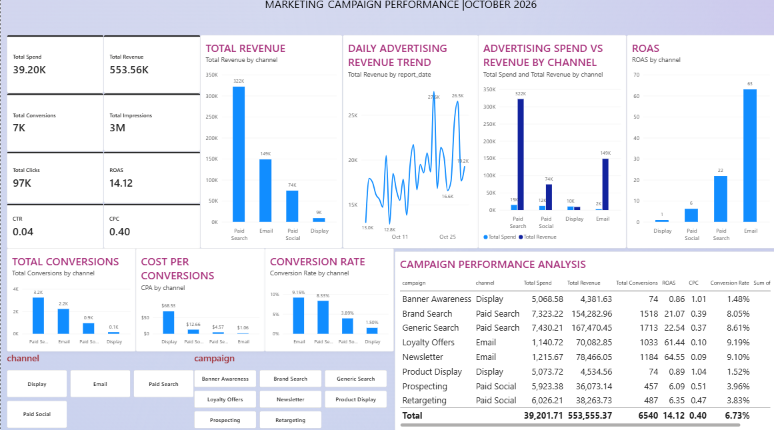

The page's visual inventory and layout, read from the dashboard file:
{"tool":"powerbi","page":{"name":"Page 1","canvas":[1920,1080],"ordinal":0},"visuals":[{"type":"cardVisual","fields":{"Data":["Sheet1.Total Spend"]},"box":[16,96,240,144],"z":0},{"type":"cardVisual","fields":{"Data":["Sheet1.Total Conversions"]},"box":[16,240,240,144],"z":1},{"type":"cardVisual","fields":{"Data":["Sheet1.Total Clicks"]},"box":[16,384,240,128],"z":2},{"type":"cardVisual","fields":{"Data":["Sheet1.CTR"]},"box":[16,512,240,112],"z":3},{"type":"cardVisual","fields":{"Data":["Sheet1.Total Revenue"]},"box":[256,96,240,144],"z":4},{"type":"cardVisual","fields":{"Data":["Sheet1.Total Impressions"]},"box":[256,240,240,144],"z":5},{"type":"cardVisual","fields":{"Data":["Sheet1.ROAS"]},"box":[256,384,240,128],"z":6},{"type":"cardVisual","fields":{"Data":["Sheet1.CPC"]},"box":[256,512,240,112],"z":7},{"type":"clusteredColumnChart","title":"TOTAL REVENUE","fields":{"Category":["Sheet1.channel"],"Y":["Sheet1.Total Revenue"]},"box":[496,96,352,528],"z":8},{"type":"lineChart","title":"DAILY ADVERTISING REVENUE TREND","fields":{"Category":["Sheet1.report_date"],"Y":["Sheet1.Total Revenue"]},"box":[848,96,336,528],"z":9},{"type":"clusteredColumnChart","title":"ADVERTISING SPEND VS REVENUE BY CHANNEL","fields":{"Category":["Sheet1.channel"],"Y":["Sheet1.Total Spend","Sheet1.Total Revenue"]},"box":[1184,96,368,528],"z":10},{"type":"clusteredColumnChart","title":"ROAS ","fields":{"Category":["Sheet1.channel"],"Y":["Sheet1.ROAS"]},"box":[1552,96,368,528],"z":11},{"type":"clusteredColumnChart","title":"TOTAL CONVERSIONS","fields":{"Category":["Sheet1.channel"],"Y":["Sheet1.Total Conversions"]},"box":[16,624,320,256],"z":12},{"type":"clusteredColumnChart","title":"COST PER CONVERSIONS","fields":{"Category":["Sheet1.channel"],"Y":["Sheet1.CPA"]},"box":[336,624,320,256],"z":13},{"type":"clusteredColumnChart","title":"CONVERSION RATE","fields":{"Category":["Sheet1.channel"],"Y":["Sheet1.Conversion Rate"]},"box":[656,624,320,256],"z":14},{"type":"tableEx","title":"CAMPAIGN PERFORMANCE ANALYSIS","fields":{"Values":["Sheet1.campaign","Sheet1.channel","Sheet1.Total Spend","Sheet1.Total Revenue","Sheet1.Total Conversions","Sheet1.ROAS","Sheet1.CPC","Sheet1.Conversion Rate","Sum(Sheet1.conversions)"]},"box":[976,632,944,448],"z":15},{"type":"textbox","box":[656,0,720,64],"z":16},{"type":"advancedSlicerVisual","fields":{"Values":["Sheet1.channel"]},"box":[16,880,464,192],"z":17},{"type":"advancedSlicerVisual","fields":{"Values":["Sheet1.campaign"]},"box":[480,880,480,192],"z":18}]}

Visuals, with their boxes in screenshot pixels (x1, y1, x2, y2), scaled from the page's 1920x1080 canvas onto the 774x430 screenshot:
cardVisual - Sheet1.Total Spend: bbox=[6, 38, 103, 96]
cardVisual - Sheet1.Total Conversions: bbox=[6, 96, 103, 153]
cardVisual - Sheet1.Total Clicks: bbox=[6, 153, 103, 204]
cardVisual - Sheet1.CTR: bbox=[6, 204, 103, 248]
cardVisual - Sheet1.Total Revenue: bbox=[103, 38, 200, 96]
cardVisual - Sheet1.Total Impressions: bbox=[103, 96, 200, 153]
cardVisual - Sheet1.ROAS: bbox=[103, 153, 200, 204]
cardVisual - Sheet1.CPC: bbox=[103, 204, 200, 248]
"TOTAL REVENUE" clusteredColumnChart: bbox=[200, 38, 342, 248]
"DAILY ADVERTISING REVENUE TREND" lineChart: bbox=[342, 38, 477, 248]
"ADVERTISING SPEND VS REVENUE BY CHANNEL" clusteredColumnChart: bbox=[477, 38, 626, 248]
"ROAS " clusteredColumnChart: bbox=[626, 38, 773, 248]
"TOTAL CONVERSIONS" clusteredColumnChart: bbox=[6, 248, 135, 350]
"COST PER CONVERSIONS" clusteredColumnChart: bbox=[135, 248, 264, 350]
"CONVERSION RATE" clusteredColumnChart: bbox=[264, 248, 393, 350]
"CAMPAIGN PERFORMANCE ANALYSIS" tableEx: bbox=[393, 252, 773, 429]
textbox: bbox=[264, 0, 555, 25]
advancedSlicerVisual - Sheet1.channel: bbox=[6, 350, 194, 427]
advancedSlicerVisual - Sheet1.campaign: bbox=[194, 350, 387, 427]
